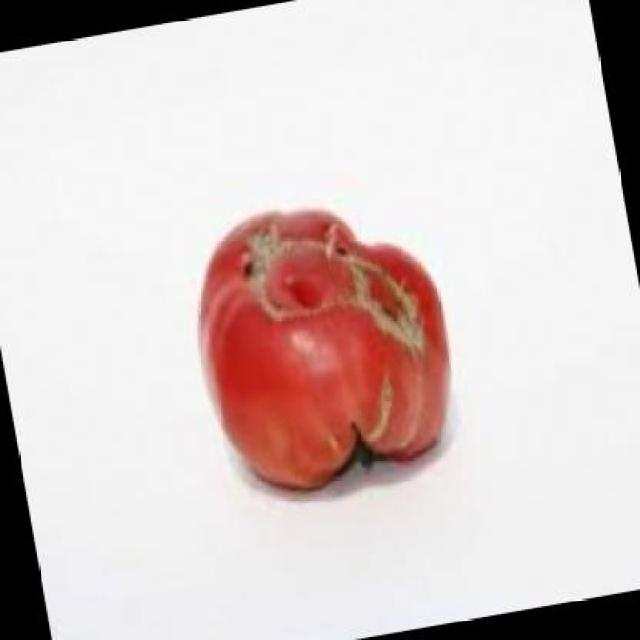overripe tomato: (185, 195, 458, 498)
